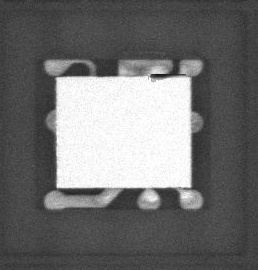DIE_BROKEN: (149, 71, 178, 83)
